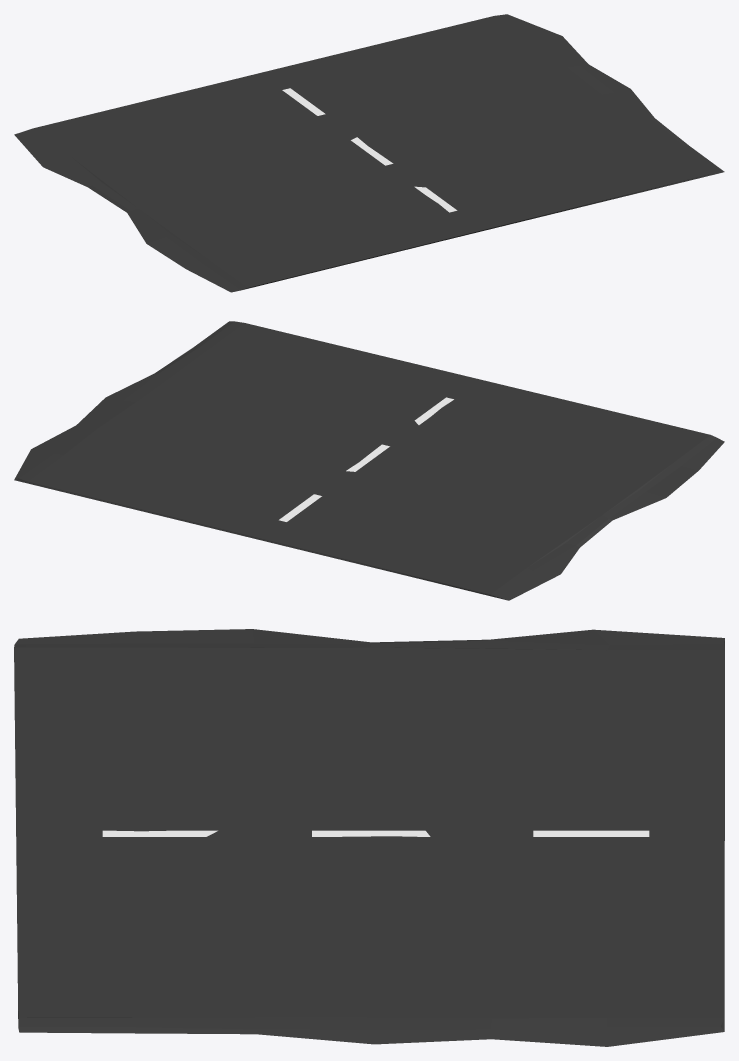
Rendered from Estrada2.fbx.
3 views of the same model, one above another, from view 1: azimuth 30°, elevation 25°; view 2: azimuth 150°, elevation 25°; view 3: azimuth 270°, elevation 25° (orthographic). The views are drawn at different scales.
Parts seen in each view (by area): view 1: Estrada2; view 2: Estrada2; view 3: Estrada2.
Part boxes in pixels (<box>): Estrada2: <box>14,14,724,292</box>; Estrada2: <box>14,321,724,600</box>; Estrada2: <box>14,629,724,1046</box>.
Bounding box in the file's own units: 5881 × 26.88 × 4226.
